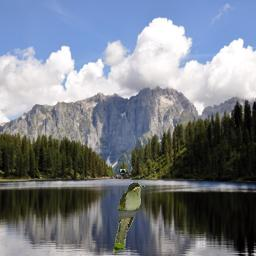Cuckoo: (113, 182, 146, 255)
